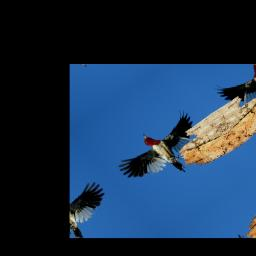Woodpecker: (108, 107, 219, 201)
